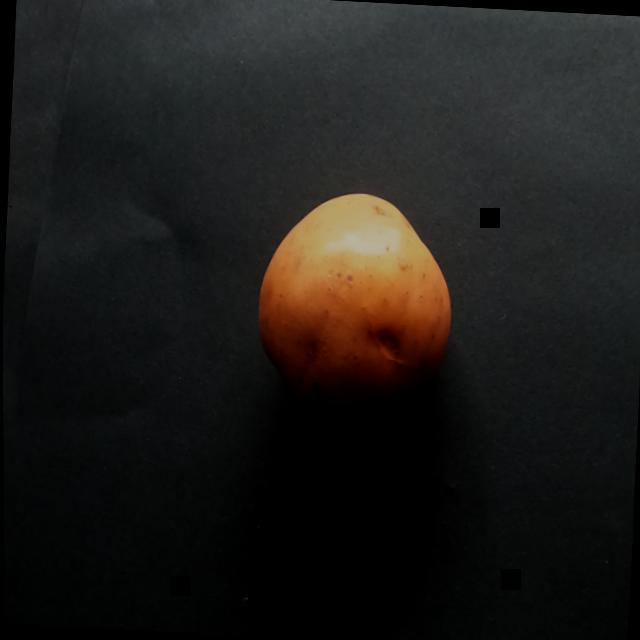Potato: (195, 128, 533, 502)
